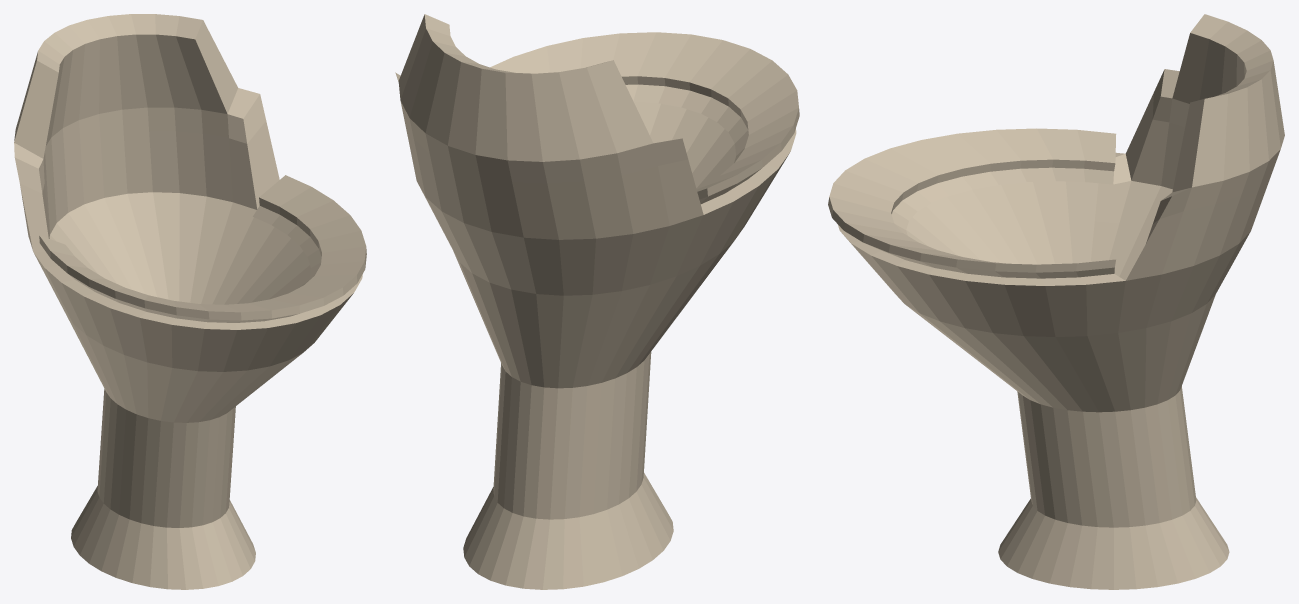
Rendered from Toilet 2 NEW.fbx.
3 renders of one model, left to right at view 1: azimuth 30°, elevation 25°; view 2: azimuth 150°, elevation 25°; view 3: azimuth 270°, elevation 25°, orthographic. The views are drawn at different scales.
Visible parts, largest first — view 1: Toilet; view 2: Toilet; view 3: Toilet.
Boxes of the visible parts, x1,y1,x2,y2 form: Toilet: (14, 14, 366, 589); Toilet: (395, 14, 799, 589); Toilet: (828, 14, 1284, 589).
Bounding box in the file's own units: 44.55 × 74.79 × 62.5.
